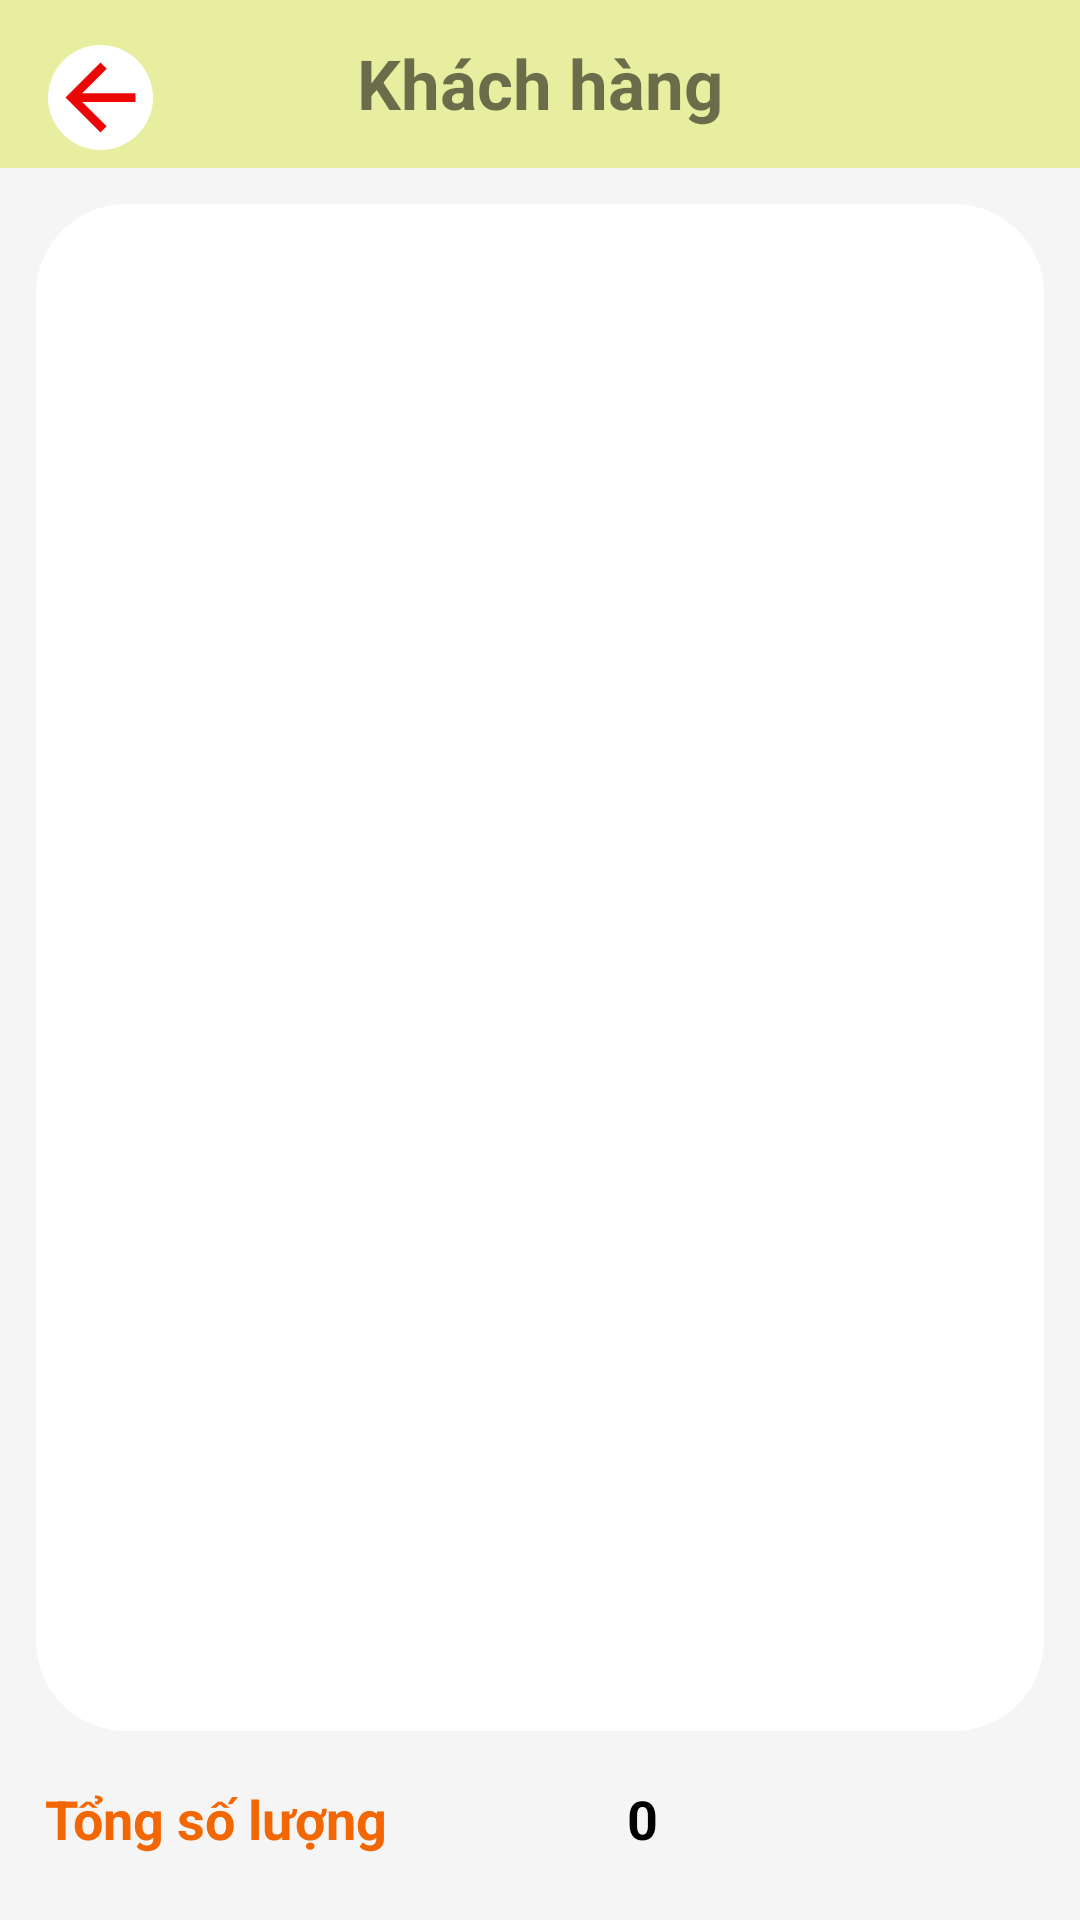

Icons on this 1080 × 1920 Android screen, each with the point to tap as (x=x, y=y):
arrow back: (x=100, y=97)
